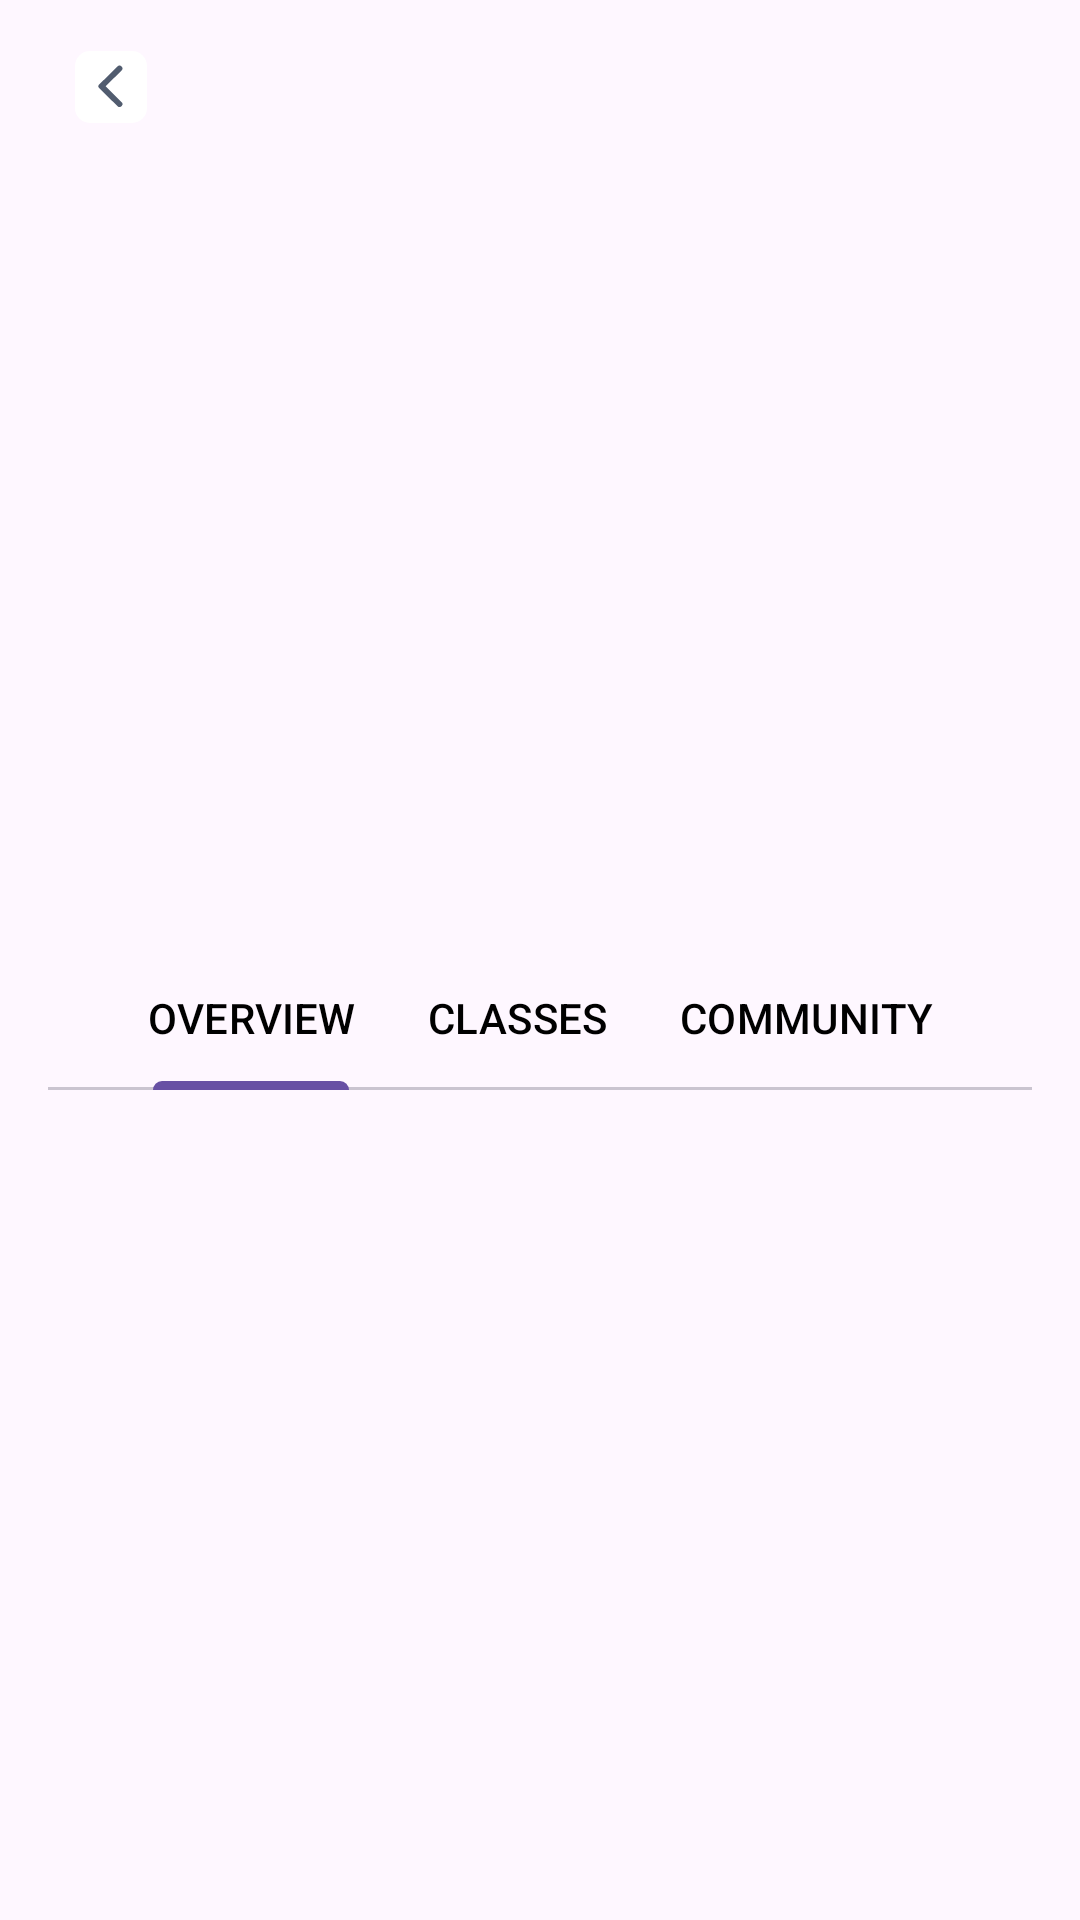

Icon bounding boxes for this 1080 x 1920 phone screenshot, format detection(x1, y1, x2, y2):
back: detection(98, 65, 123, 107)
